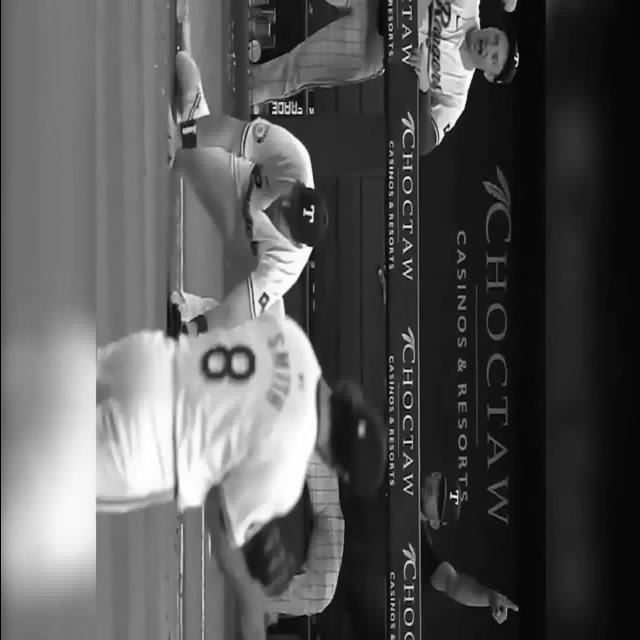baseball_glove: (244, 519, 296, 597)
shoe: (173, 49, 210, 124)
